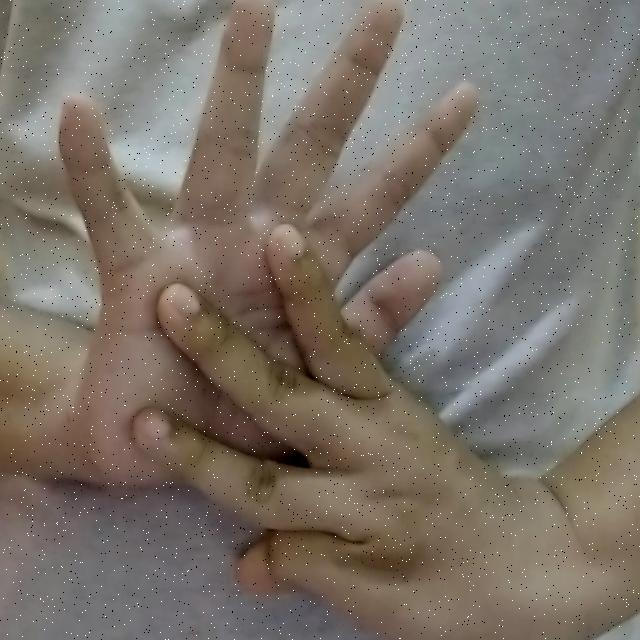M: (47, 2, 511, 632)
